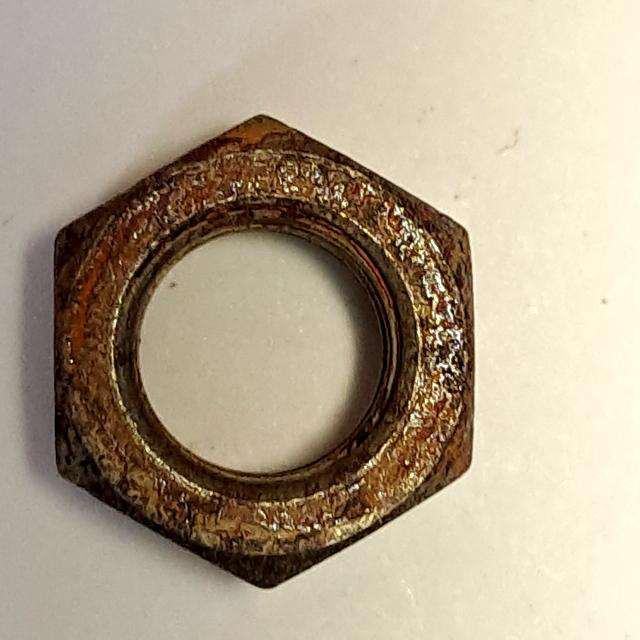Rust: (36, 96, 492, 614)
